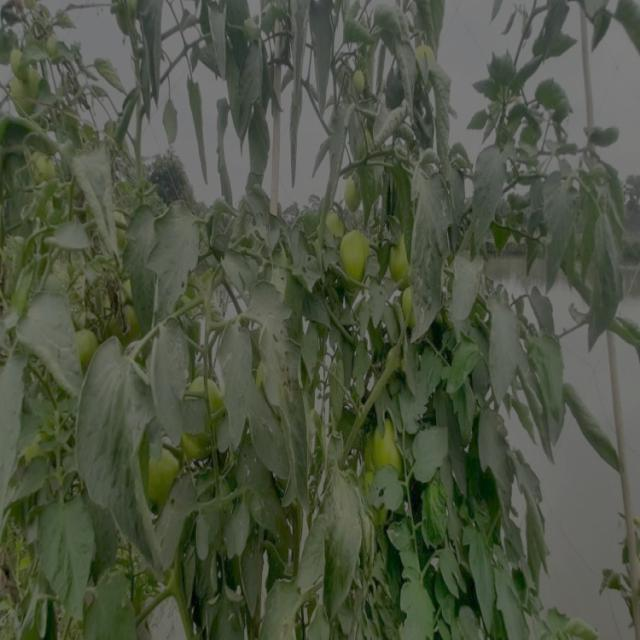tomato: (189, 388, 218, 455), (152, 449, 181, 505), (376, 432, 408, 481), (11, 79, 45, 118), (342, 230, 372, 274), (389, 242, 414, 291), (71, 334, 102, 367), (109, 314, 143, 344), (418, 44, 441, 74), (11, 48, 34, 72), (347, 185, 362, 219), (322, 216, 344, 234), (400, 295, 415, 321), (358, 71, 370, 91)
